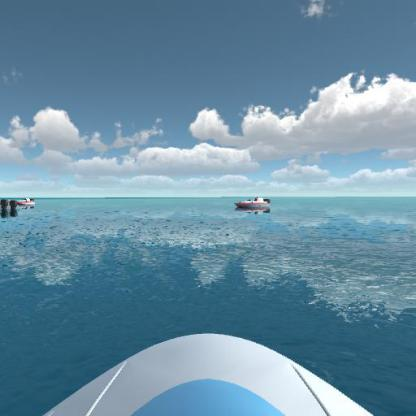usv1: (1, 194, 20, 215)
usv3: (230, 193, 275, 216), (18, 196, 38, 210)
